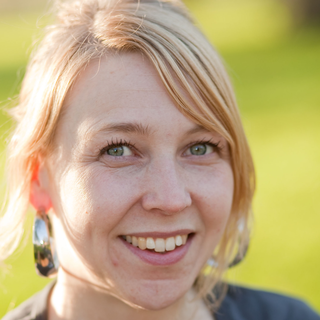eye: (177, 135, 225, 162), (95, 138, 144, 164)
